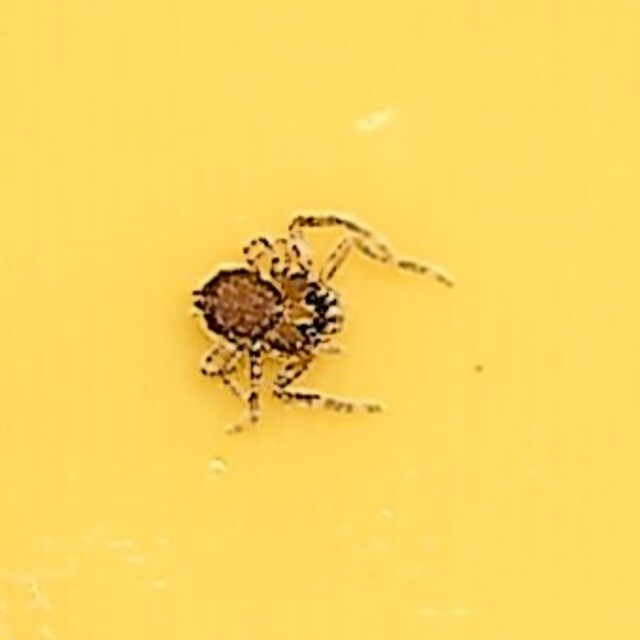Araneae: (189, 208, 451, 432)
